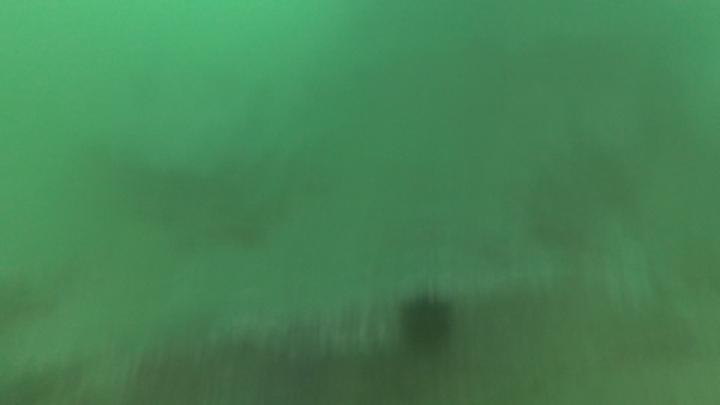echinus: (393, 291, 459, 361)
